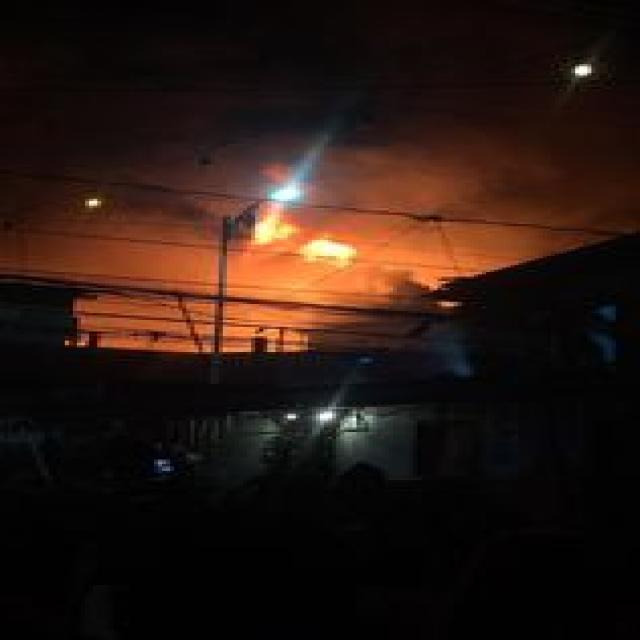Fire: (261, 220, 357, 257)
Smoke: (61, 212, 306, 334), (352, 148, 600, 253)
